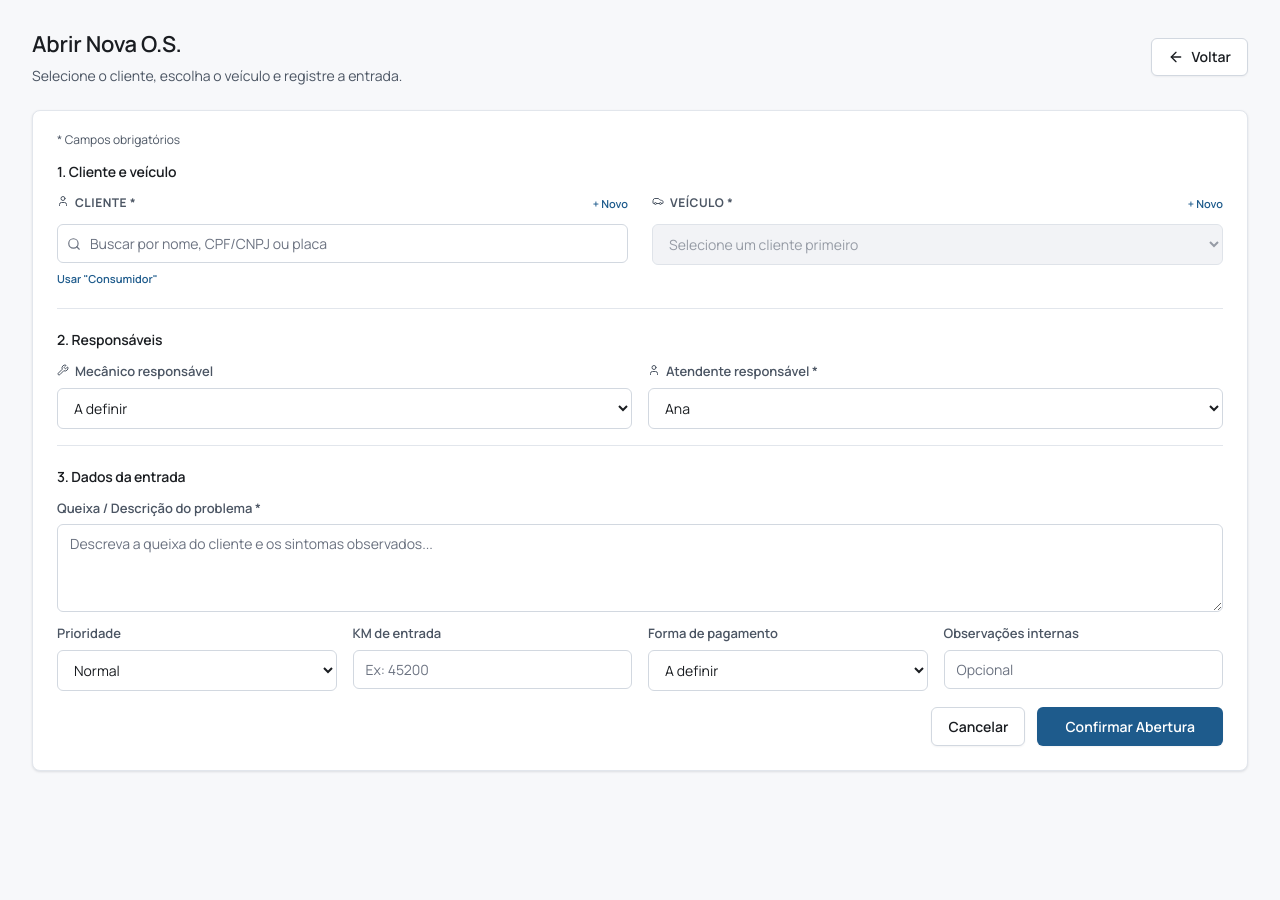
Scenario: Tela de Abrir O.S. › busca cliente por nome
Step 1. Type "maria" into the field named "Buscar cliente por nome" → (342, 244), box left=57, top=224, right=628, bottom=263
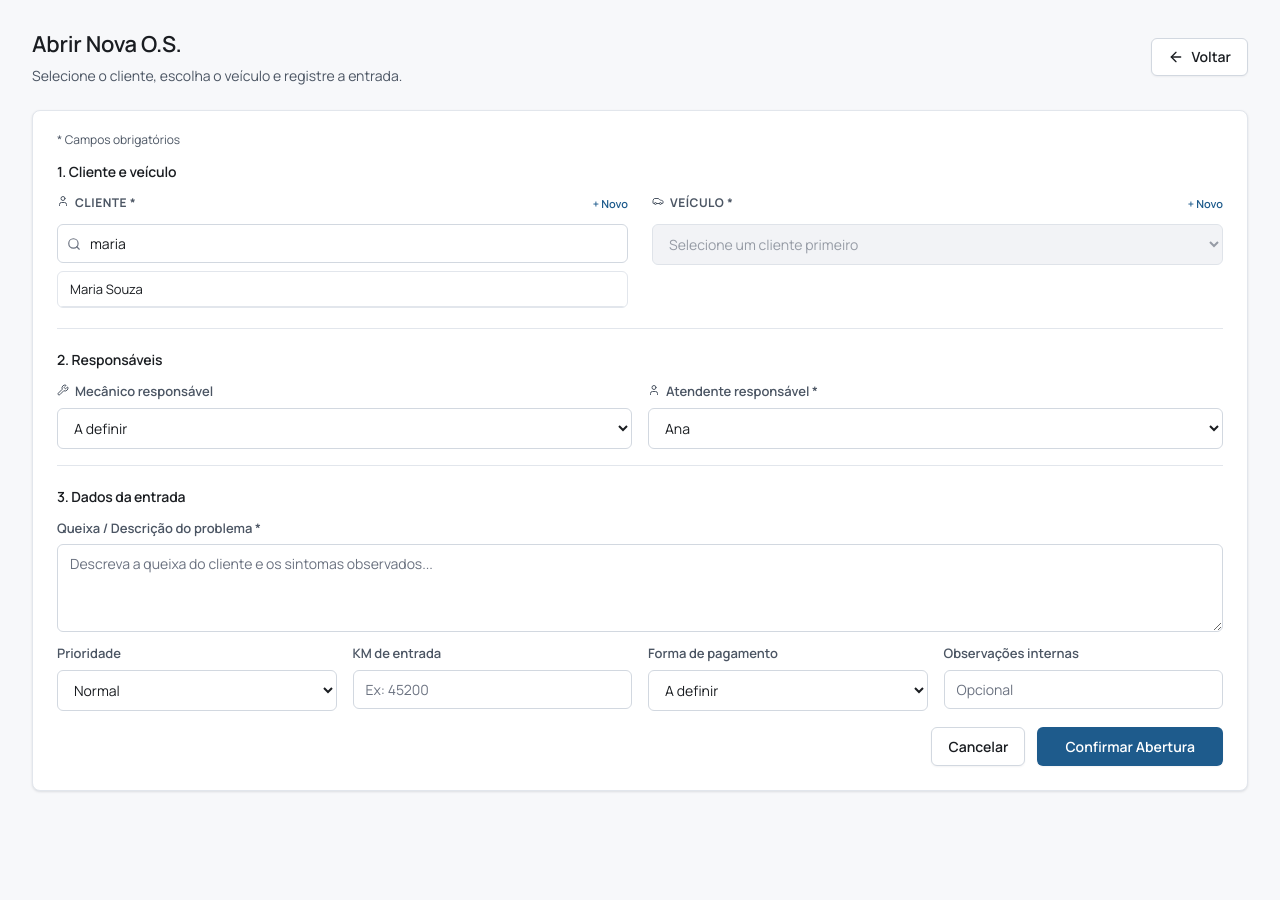
Expected: the button "Maria Souza" is shown, left=58, top=272, right=627, bottom=307
